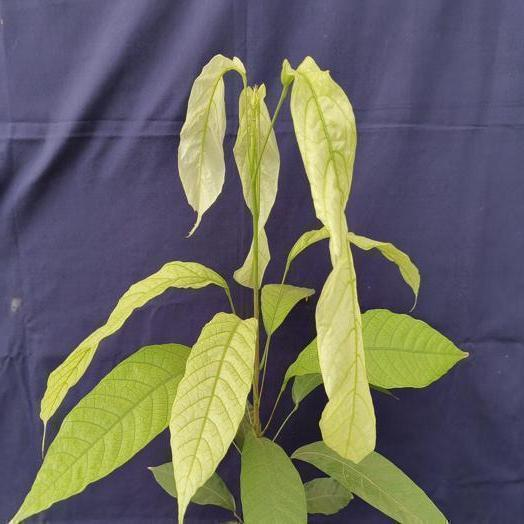Iron: (290, 57, 375, 462), (40, 261, 231, 428), (13, 344, 189, 523), (170, 313, 257, 523), (292, 441, 447, 522), (179, 54, 244, 236), (233, 86, 279, 286), (362, 309, 468, 388), (240, 437, 306, 523), (349, 232, 420, 308), (262, 284, 314, 336), (285, 228, 327, 271), (235, 244, 253, 286)
